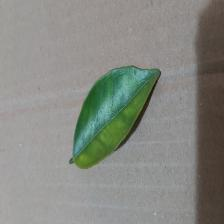greening: (62, 61, 162, 177)
